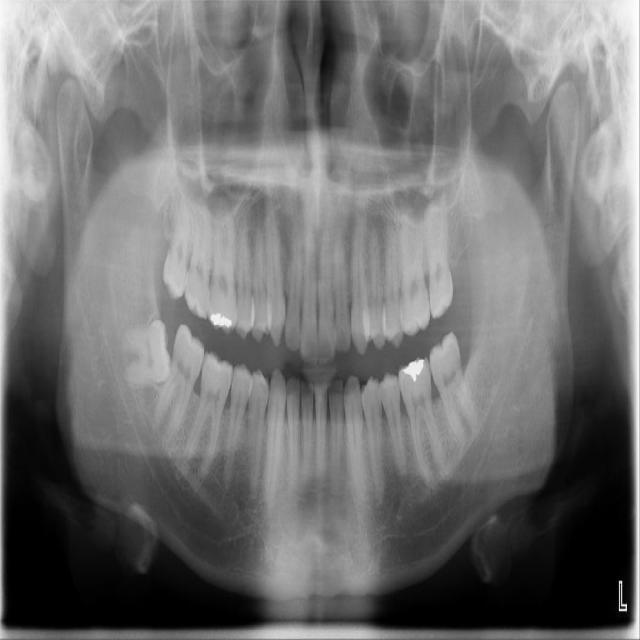3M ESPE Implant: (161, 178, 197, 301)
52: (391, 355, 441, 409), (206, 276, 237, 334)
73: (598, 582, 612, 608)
BioHorizons Implant: (421, 191, 455, 318)
Blue Sky Bio Implant: (423, 331, 485, 450)
Caries: (183, 193, 217, 319)
Implant: (147, 323, 212, 444)
Keystone Dental Implant: (116, 318, 174, 387)
